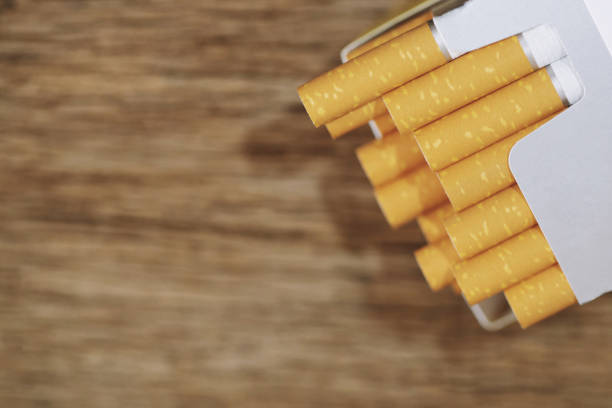cigarette: (337, 0, 612, 333), (378, 25, 566, 138), (412, 61, 582, 171), (296, 17, 451, 130), (435, 108, 566, 213), (447, 227, 556, 306), (442, 185, 537, 261), (502, 264, 580, 329), (371, 166, 445, 232), (354, 130, 428, 186), (323, 96, 385, 139), (413, 238, 461, 291), (416, 201, 453, 242)
